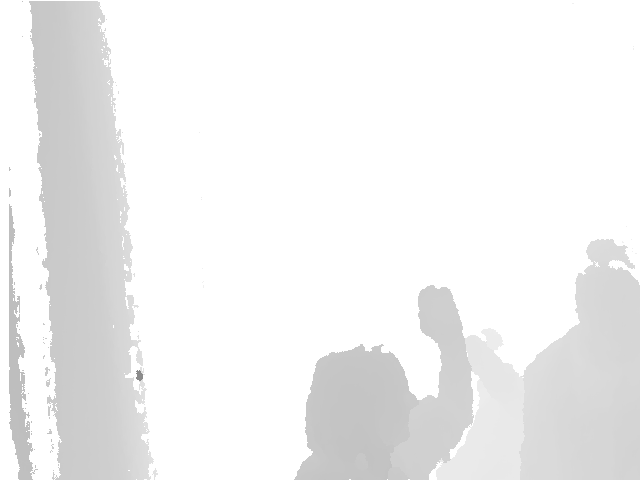hand: (418, 286, 462, 340)
head: (307, 345, 415, 469), (574, 237, 640, 332)
person: (289, 287, 475, 480), (516, 237, 640, 480)
